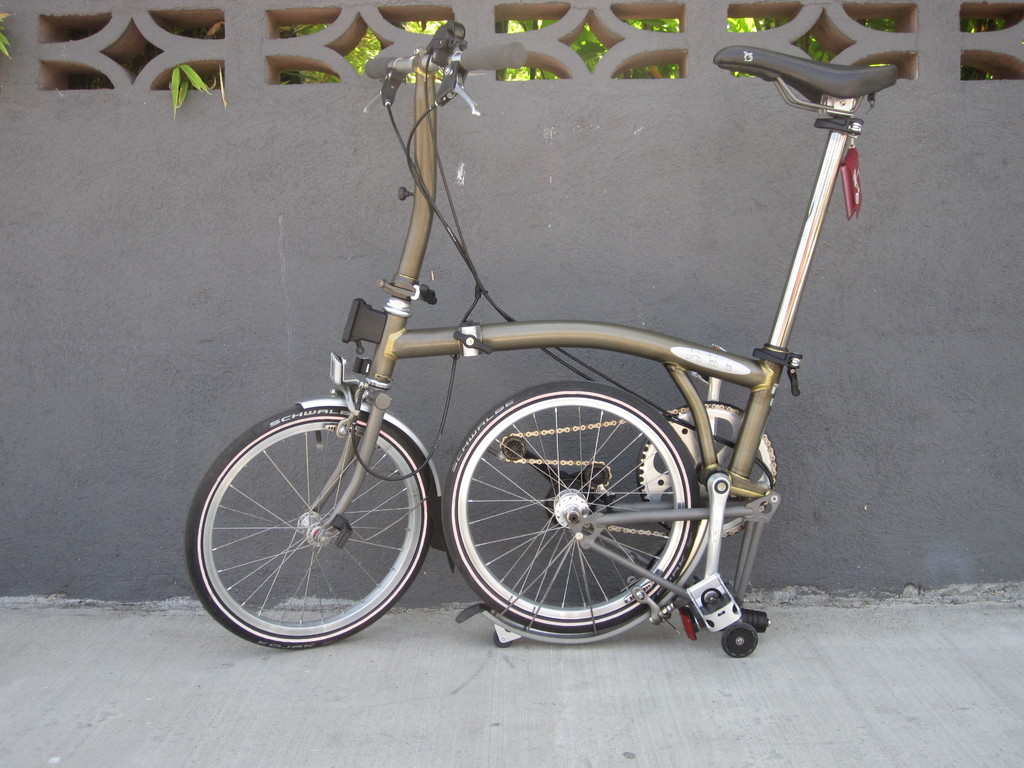Bike_toward: (193, 33, 870, 681)
